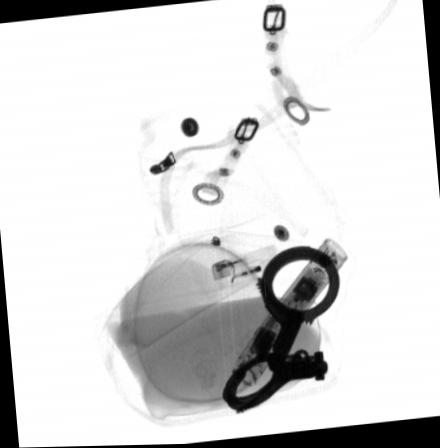Baton: (231, 238, 348, 386)
HandCuffs: (222, 243, 340, 414)
Lighter: (211, 244, 285, 291)
